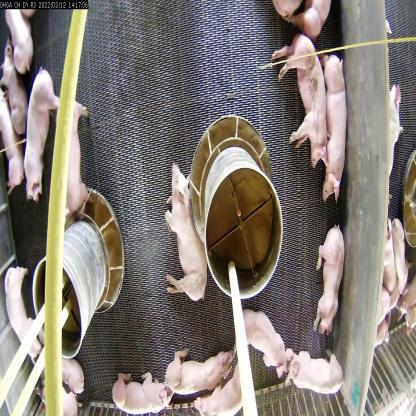Pig: (271, 33, 331, 179), (163, 153, 209, 306), (21, 63, 59, 201), (320, 45, 350, 209), (310, 211, 346, 339), (1, 260, 46, 360), (162, 342, 245, 396), (61, 90, 95, 218), (239, 304, 297, 378), (0, 84, 32, 197), (282, 344, 348, 398), (112, 364, 176, 415), (0, 30, 28, 137), (287, 0, 339, 40)
